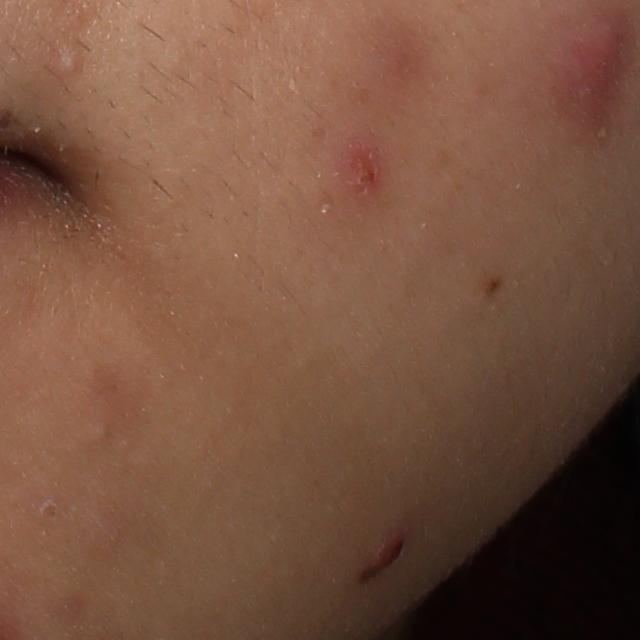comedo: (87, 418, 113, 445), (58, 52, 83, 76)
nevus: (483, 273, 505, 295)
nodule: (557, 24, 619, 116)
papule: (321, 138, 400, 208), (360, 523, 402, 582)
